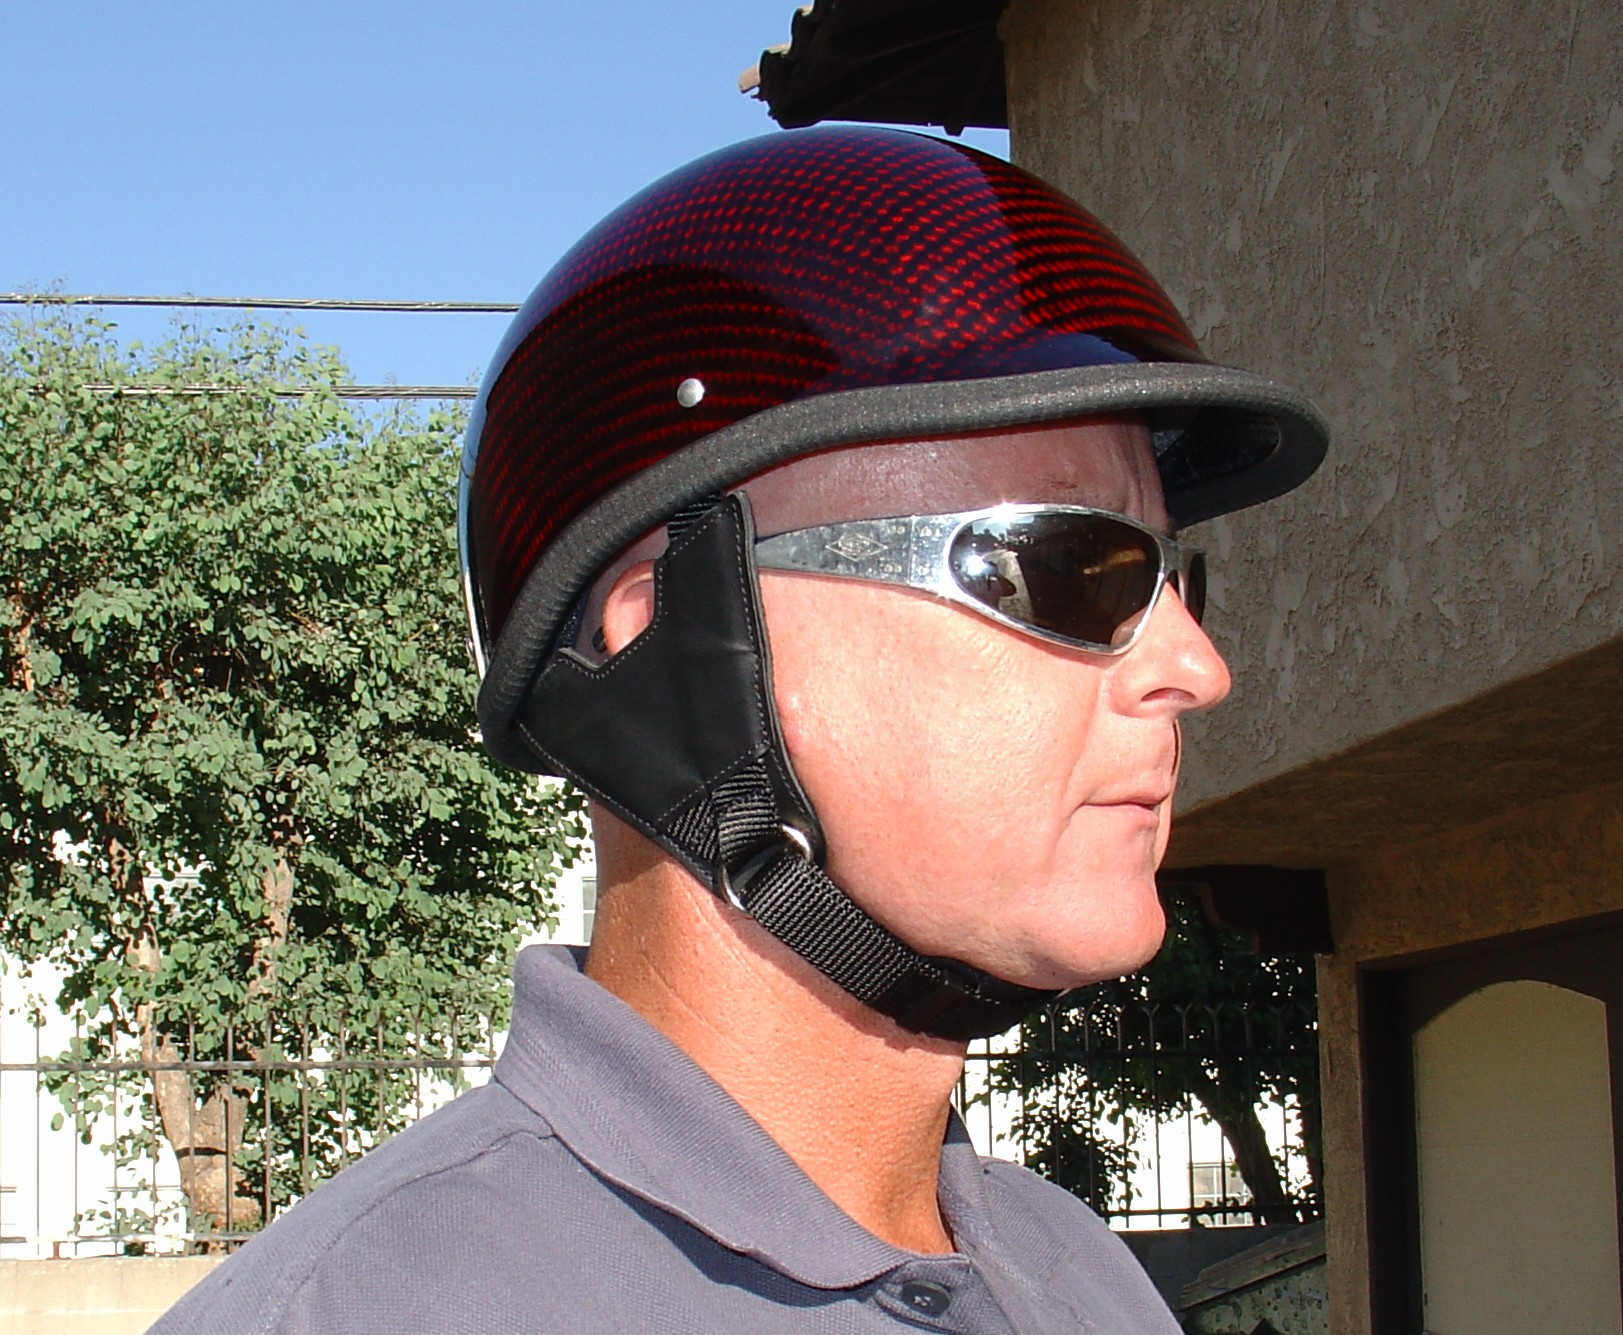helmet: (456, 125, 1332, 983)
